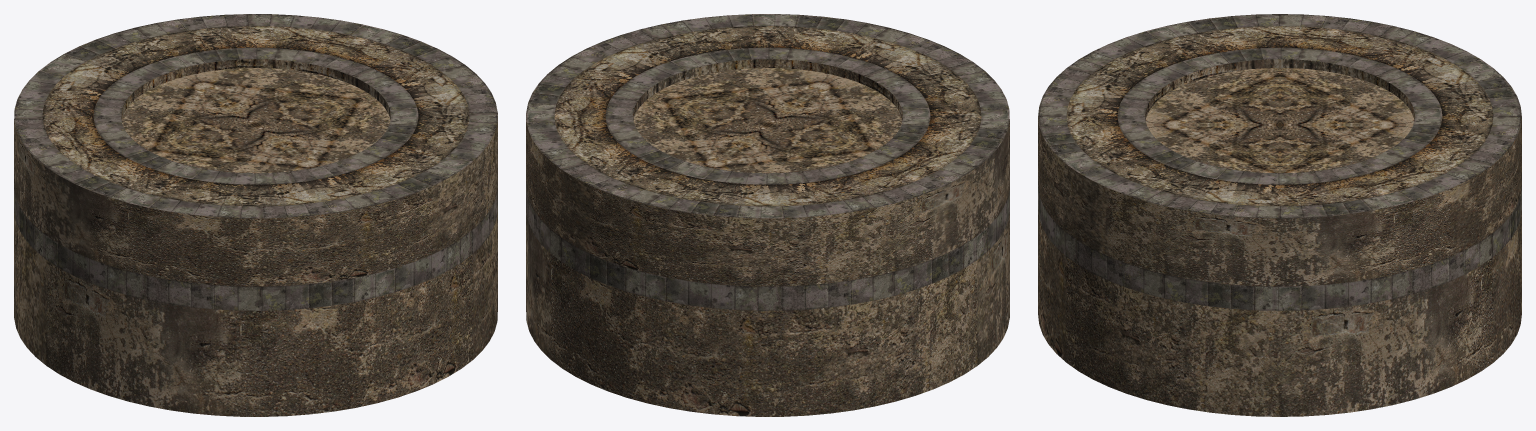
Rendered from materials_5_pillar_fat_17.fbx.
3 views of the same model, side by side, from view 1: azimuth 30°, elevation 25°; view 2: azimuth 150°, elevation 25°; view 3: azimuth 270°, elevation 25° (orthographic).
Visible parts, largest first — view 1: materials_5_pillar_fat_17; view 2: materials_5_pillar_fat_17; view 3: materials_5_pillar_fat_17.
Part boxes in pixels (x1,y1,x2,y2): materials_5_pillar_fat_17: [14, 14, 497, 416]; materials_5_pillar_fat_17: [526, 14, 1009, 416]; materials_5_pillar_fat_17: [1038, 14, 1521, 416].
Bounding box in the file's own units: 135 × 60.97 × 135.
